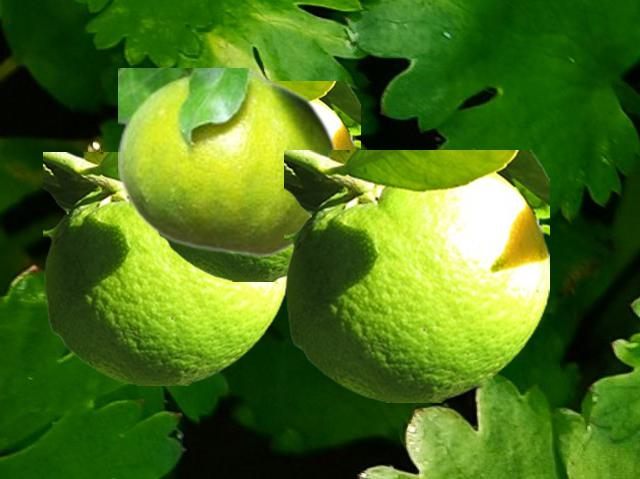dalandan: (284, 150, 548, 401), (43, 152, 285, 384), (118, 68, 338, 257), (155, 81, 359, 280)
